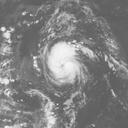cyclone: (45, 41, 84, 85)
